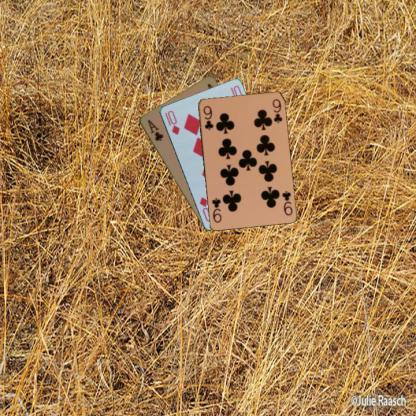10d: (162, 107, 181, 136)
9c: (279, 188, 294, 216), (200, 103, 214, 131)
Ac: (144, 117, 165, 142)
